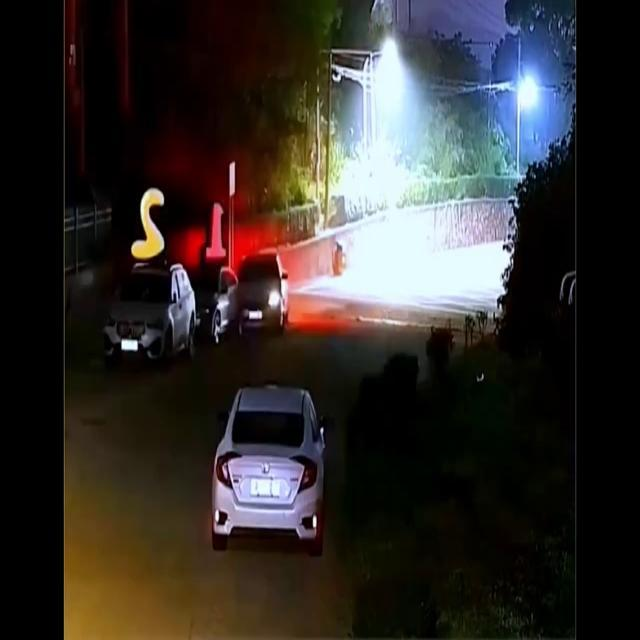multiple_accident: (75, 190, 301, 380)
normal: (157, 382, 392, 566)
